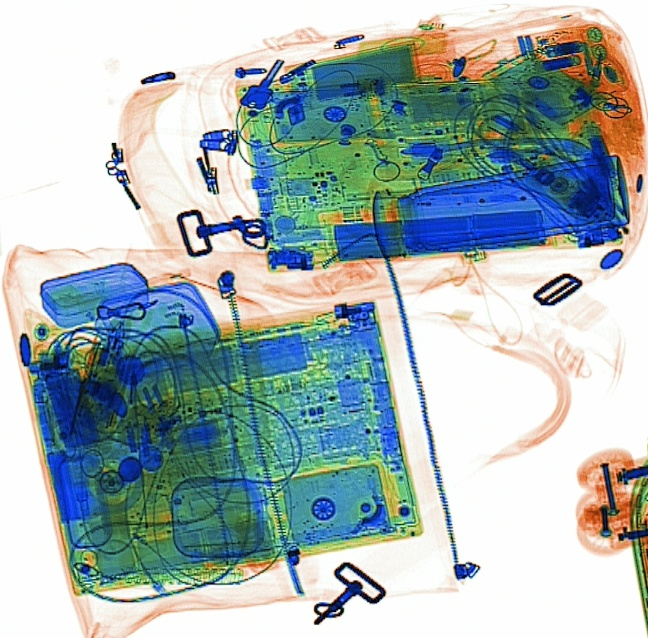powerbank: (32, 339, 103, 452)
